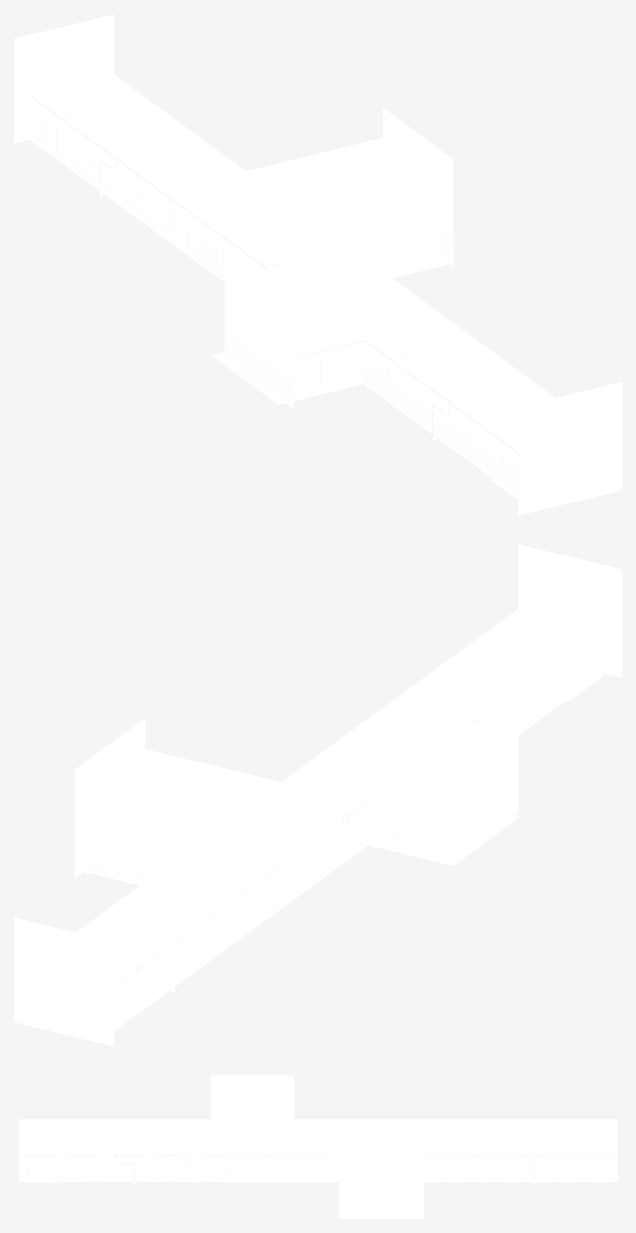
File: stage.glb
3 views of the same model, one above another, from view 1: azimuth 30°, elevation 25°; view 2: azimuth 150°, elevation 25°; view 3: azimuth 270°, elevation 25° (orthographic). The views are drawn at different scales.
Visible parts, largest first — view 1: KORE_export_5_WallEnd_1_0_0, KORE_export_5_ground_1.0_0_0; view 2: KORE_export_5_WallEnd_1_0_0, KORE_export_5_ground_1.0_0_0; view 3: KORE_export_5_WallEnd_1_0_0, KORE_export_5_ground_1.0_0_0.
Boxes of the visible parts, bbox=[...] form: KORE_export_5_WallEnd_1_0_0: bbox=[14, 14, 621, 515]; KORE_export_5_ground_1.0_0_0: bbox=[29, 96, 518, 499]; KORE_export_5_WallEnd_1_0_0: bbox=[14, 544, 621, 1046]; KORE_export_5_ground_1.0_0_0: bbox=[80, 629, 605, 1028]; KORE_export_5_WallEnd_1_0_0: bbox=[18, 1075, 617, 1218]; KORE_export_5_ground_1.0_0_0: bbox=[18, 1112, 617, 1216].
Bounding box in the file's own units: 5.69 × 2.16 × 18.
Materials: 2 (2 with a texture image).
